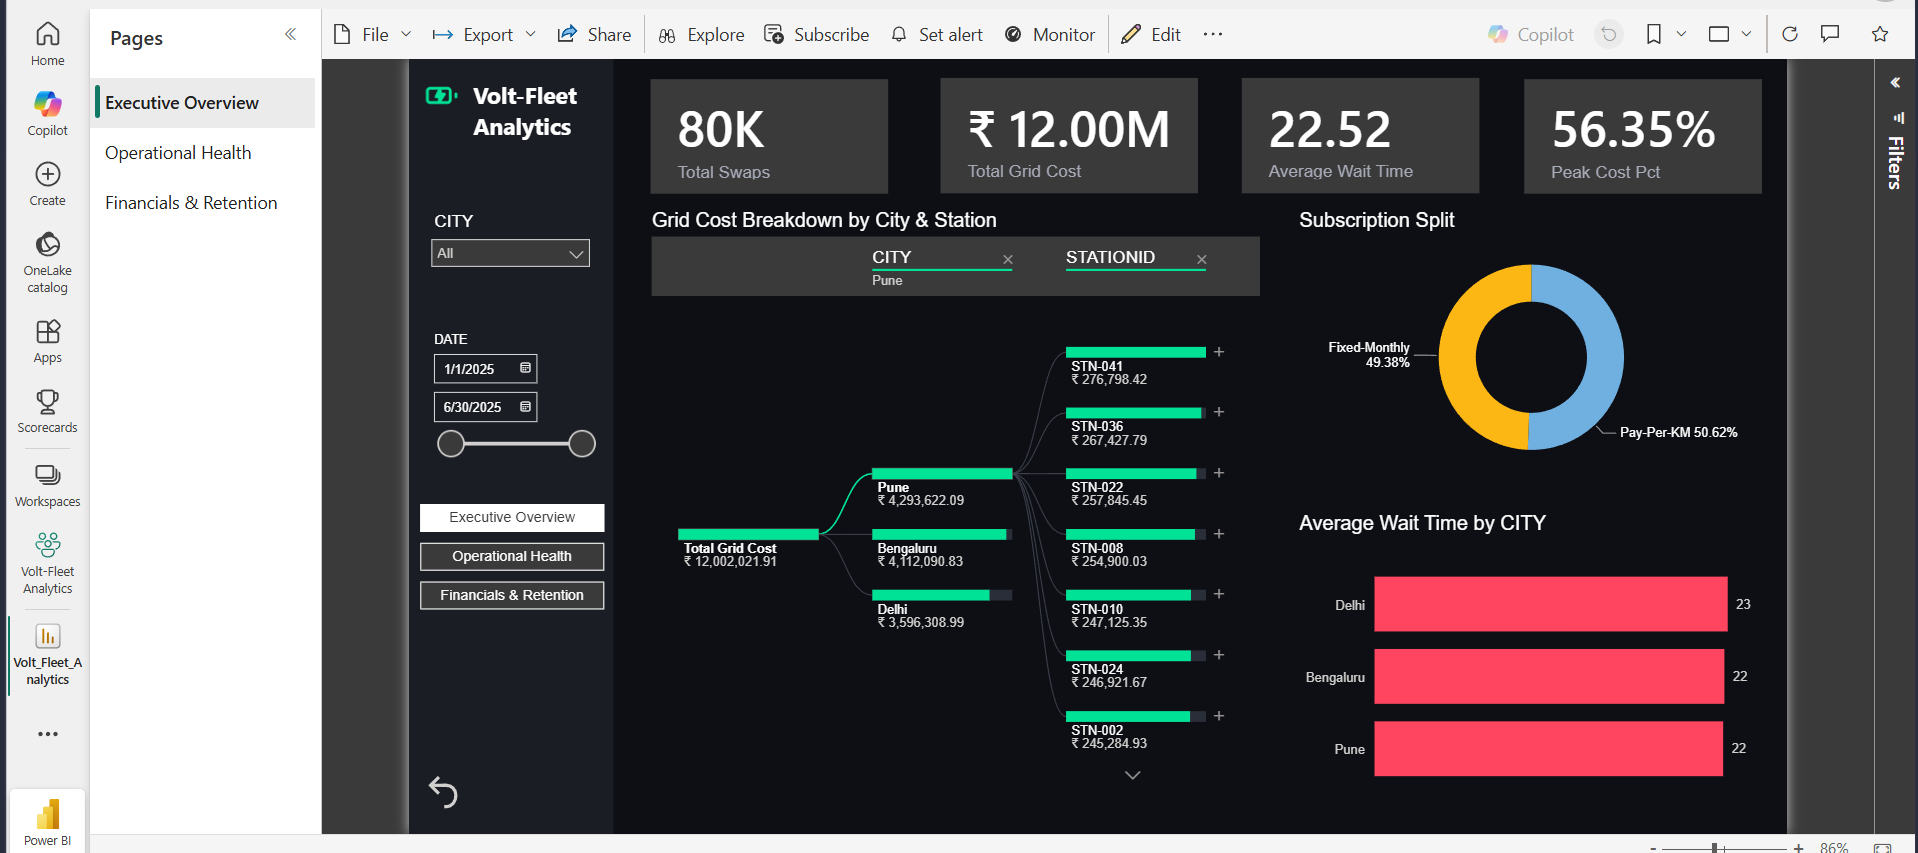

Layout of this report page (visuals, bound fields, positions):
{"tool":"powerbi","page":{"name":"Executive Overview","canvas":[1280,720],"ordinal":0},"visuals":[{"type":"cardVisual","fields":{"Data":["VW_CLEAN_SWAPS.Total Swaps"]},"box":[204.8,13.5,246.5,116.5],"z":1000},{"type":"cardVisual","fields":{"Data":["VW_CLEAN_CHARGING.Total Grid Cost"]},"box":[474.1,13.3,264.2,117],"z":2000},{"type":"cardVisual","fields":{"Data":["VW_CLEAN_SWAPS.Average Wait Time"]},"box":[754,13.3,246.1,117],"z":3000},{"type":"cardVisual","fields":{"Data":["VW_CLEAN_CHARGING.Peak Cost Pct"]},"box":[1016.6,13.5,246.5,116.5],"z":4000},{"type":"decompositionTreeVisual","title":"Grid Cost Breakdown by City & Station","fields":{"Analyze":["VW_CLEAN_CHARGING.Total Grid Cost"],"ExplainBy":["DIM_STATIONS.CITY","DIM_STATIONS.STATIONID","VW_CLEAN_CHARGING.IS_PEAK_HOUR"]},"box":[220.7,139.8,575.1,560.4],"z":5000},{"type":"donutChart","title":"Subscription Split","fields":{"Category":["VW_CLEAN_CUSTOMERS.SUBSCRIPTION_PLAN"],"Y":["VW_CLEAN_SWAPS.Total Swaps"]},"box":[821.6,139.8,441.5,255.1],"z":6000},{"type":"clusteredBarChart","fields":{"Category":["DIM_STATIONS.CITY"],"Y":["VW_CLEAN_SWAPS.Average Wait Time"]},"box":[821.6,420.6,441.5,280.8],"z":7000},{"type":"shape","box":[0,0,190,720.2],"z":7001},{"type":"slicer","fields":{"Values":["DIM_STATIONS.CITY"]},"box":[10.6,136.8,167.7,80.8],"z":7002},{"type":"pageNavigator","box":[10.6,413.1,171,100],"z":7003},{"type":"slicer","fields":{"Values":["VW_CLEAN_SWAPS.DATE"]},"box":[10.6,248.4,171.3,133.9],"z":7004},{"type":"textbox","box":[54.3,14.5,124.3,96.5],"z":7005},{"type":"actionButton","box":[10.9,14.5,43.4,39.8],"z":7006},{"type":"actionButton","box":[11.1,660.9,100.2,40.3],"z":7007}]}

Visuals, with their boxes on the page's 1280x720 design canvas (x1, y1, x2, y2). These are canvas units, not pixel positions in the 1918x853 screenshot, which may show the page scaled, cropped or inside an application window:
cardVisual - VW_CLEAN_SWAPS.Total Swaps: [205, 14, 451, 130]
cardVisual - VW_CLEAN_CHARGING.Total Grid Cost: [474, 13, 738, 130]
cardVisual - VW_CLEAN_SWAPS.Average Wait Time: [754, 13, 1000, 130]
cardVisual - VW_CLEAN_CHARGING.Peak Cost Pct: [1017, 14, 1263, 130]
"Grid Cost Breakdown by City & Station" decompositionTreeVisual: [221, 140, 796, 700]
"Subscription Split" donutChart: [822, 140, 1263, 395]
clusteredBarChart - DIM_STATIONS.CITY x VW_CLEAN_SWAPS.Average Wait Time: [822, 421, 1263, 701]
shape: [0, 0, 190, 720]
slicer - DIM_STATIONS.CITY: [11, 137, 178, 218]
pageNavigator: [11, 413, 182, 513]
slicer - VW_CLEAN_SWAPS.DATE: [11, 248, 182, 382]
textbox: [54, 14, 179, 111]
actionButton: [11, 14, 54, 54]
actionButton: [11, 661, 111, 701]
